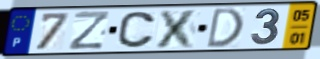3: (249, 7, 282, 48)
7: (34, 11, 71, 52)
C: (116, 10, 158, 49)
D: (204, 6, 246, 50)
X: (153, 8, 201, 49)
Z: (66, 10, 112, 52)
